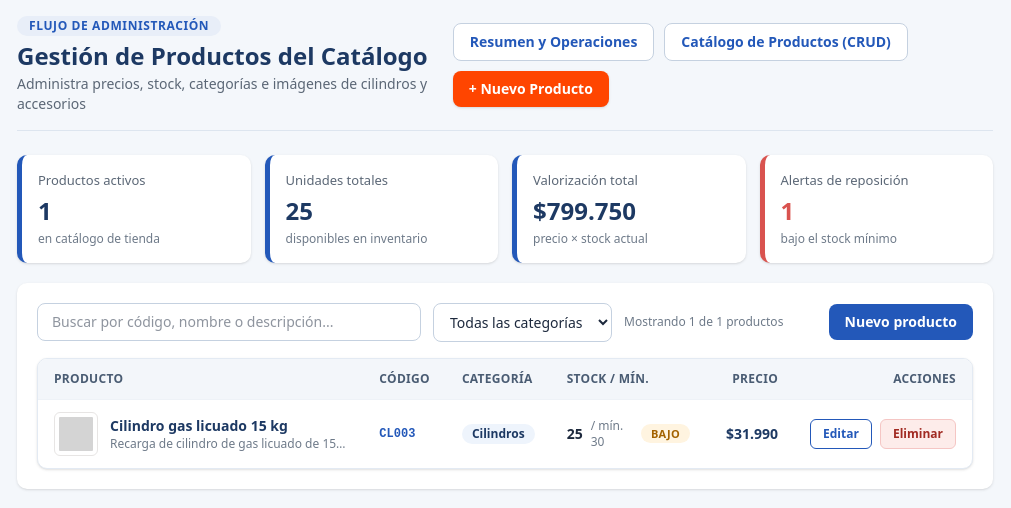
Test case: Pruebas Unitarias - Comportamiento de Componentes y Manipulación del DOM › 18. AdminProductosLista (Vista 1 Admin CRUD): Lista los productos del backend y permite confirmar eliminación en línea
This screenshot has width=1011, height=508.
expect the heading "Gestión de Productos del Catálogo" is shown: met, box [17,40,437,72]
expect the text "Cilindro gas licuado 15 kg" is shown: met, box [110,416,288,434]
Click the button "Eliminar": (918, 434) [880,418,956,448]
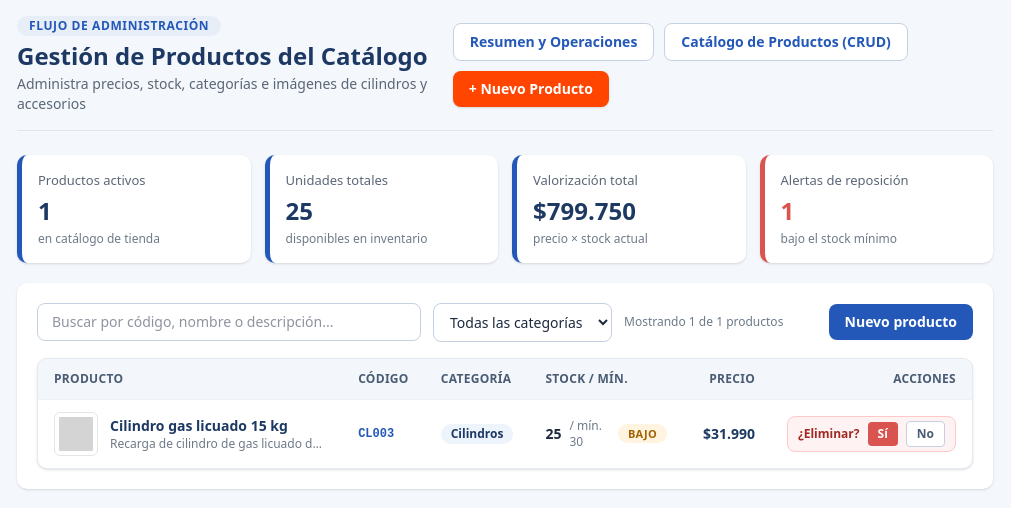
expect the text "¿Eliminar?" is shown: met, box [798,426,860,442]
